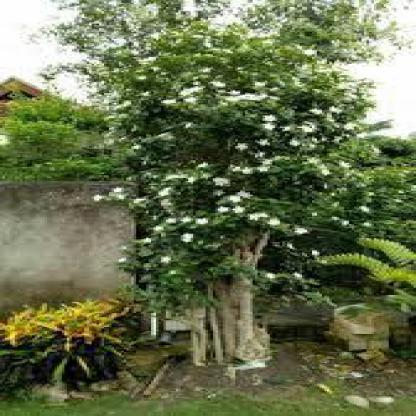Kupu-Kupu: (4, 151, 134, 357), (158, 124, 252, 319)
